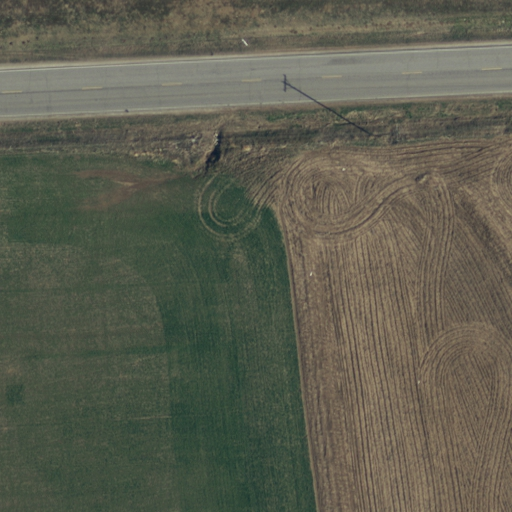DT: (369, 120, 403, 146)
